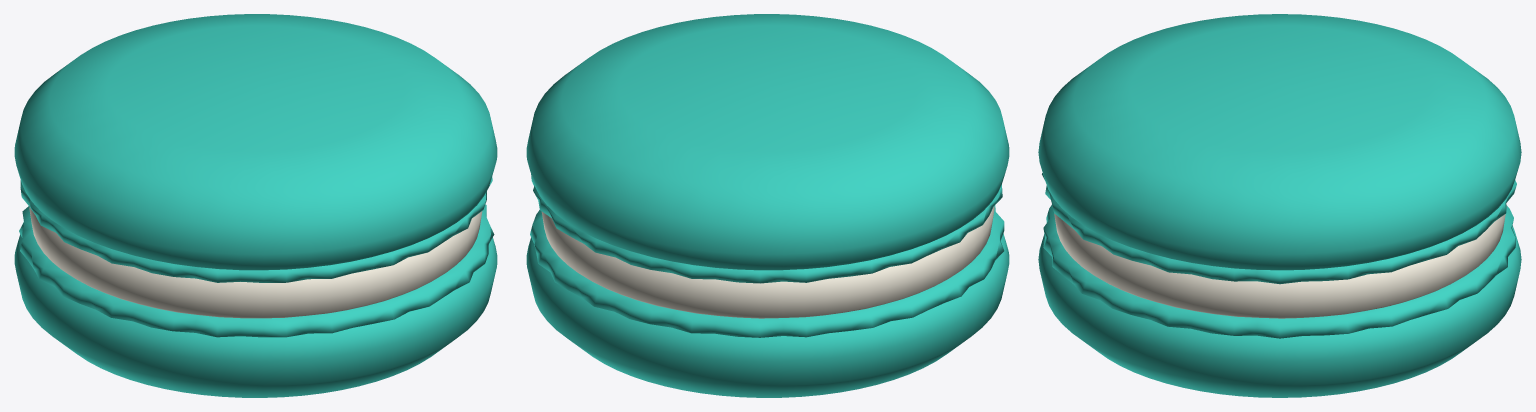
Rendered from macaron.fbx.
The picture shows the model from 3 angles, left to right: view 1: azimuth 30°, elevation 25°; view 2: azimuth 150°, elevation 25°; view 3: azimuth 270°, elevation 25°; orthographic projection.
Parts seen in each view (by area): view 1: macaron; view 2: macaron; view 3: macaron.
Boxes of the visible parts, x1,y1,x2,y2 form: macaron: (14,14,497,397); macaron: (526,14,1009,397); macaron: (1038,14,1521,397).
Bounding box in the file's own units: 55 × 30 × 55.
